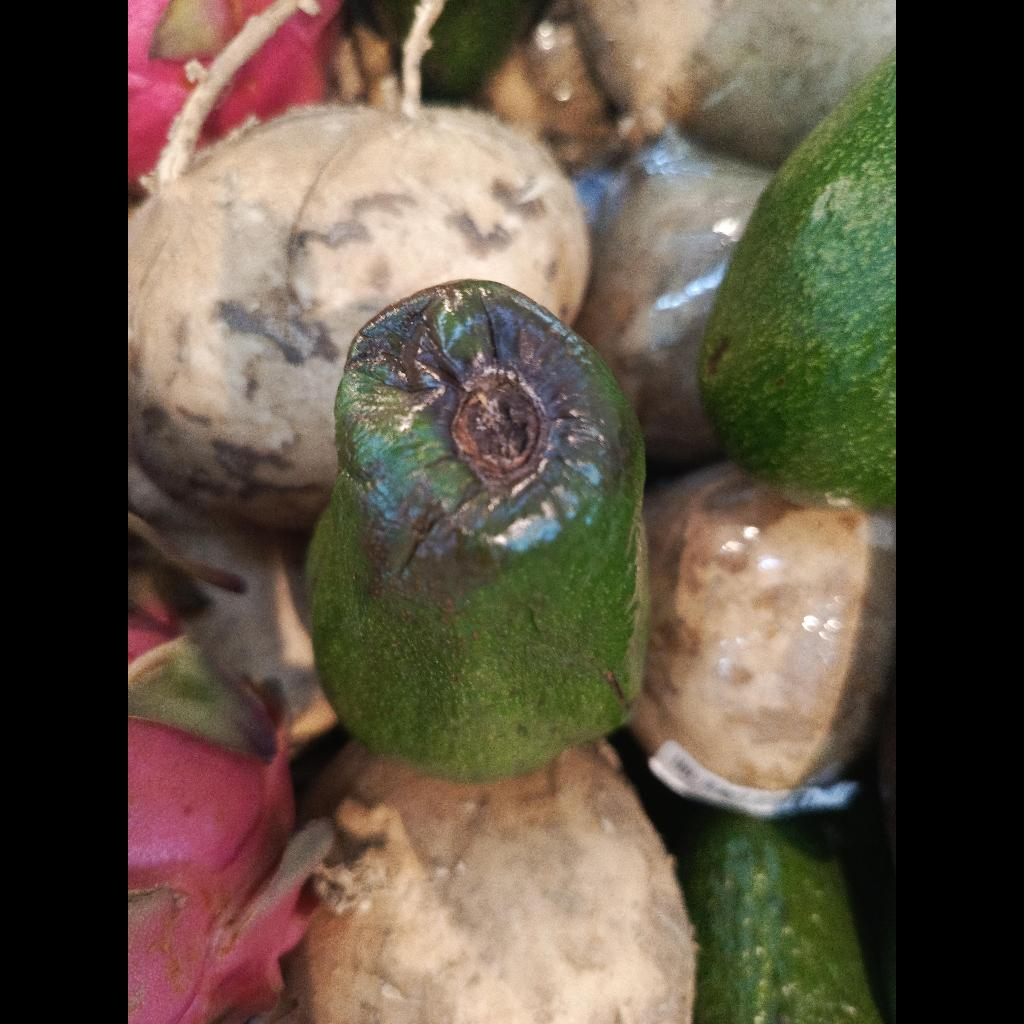stem end rot: (307, 281, 649, 782)
